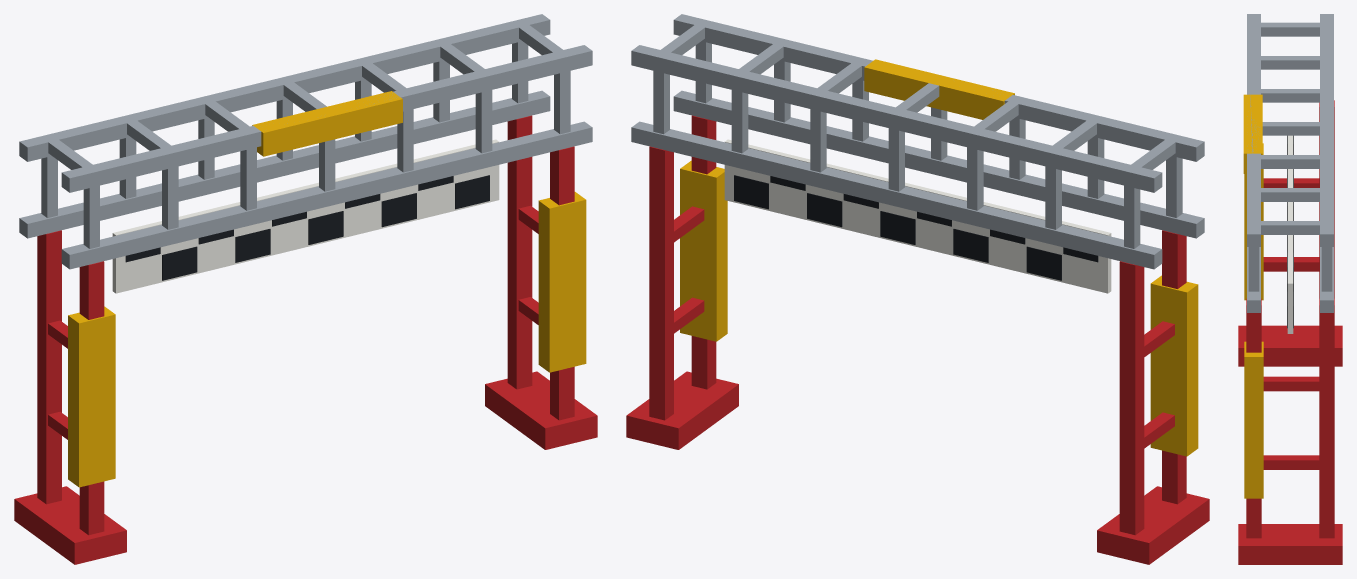
Rendered from derby_finish_arch_6x6.glb.
3 renders of one model, left to right at view 1: azimuth 30°, elevation 25°; view 2: azimuth 150°, elevation 25°; view 3: azimuth 270°, elevation 25°, orthographic. The views are drawn at different scales.
Visible parts, largest first — view 1: gantry_truss, finish_crest, banner_flap, base_l, base_r; view 2: gantry_truss, finish_crest, base_l, banner_flap, base_r; view 3: gantry_truss, base_r, finish_crest, base_l, banner_flap.
Boxes of the visible parts, x1,y1,x2,y2 form: gantry_truss: (19, 14, 592, 269); finish_crest: (68, 91, 586, 487); banner_flap: (112, 139, 499, 293); base_l: (14, 230, 126, 564); base_r: (485, 115, 597, 449); gantry_truss: (631, 14, 1204, 269); finish_crest: (680, 59, 1198, 456); base_l: (1097, 230, 1209, 564); banner_flap: (724, 139, 1111, 293); base_r: (626, 115, 738, 449); gantry_truss: (1247, 14, 1333, 312); base_r: (1238, 298, 1342, 564); finish_crest: (1243, 94, 1263, 498); base_l: (1238, 100, 1342, 366); banner_flap: (1287, 135, 1293, 333).
Bounding box in the file's own units: 6 × 4.2 × 1.2.
